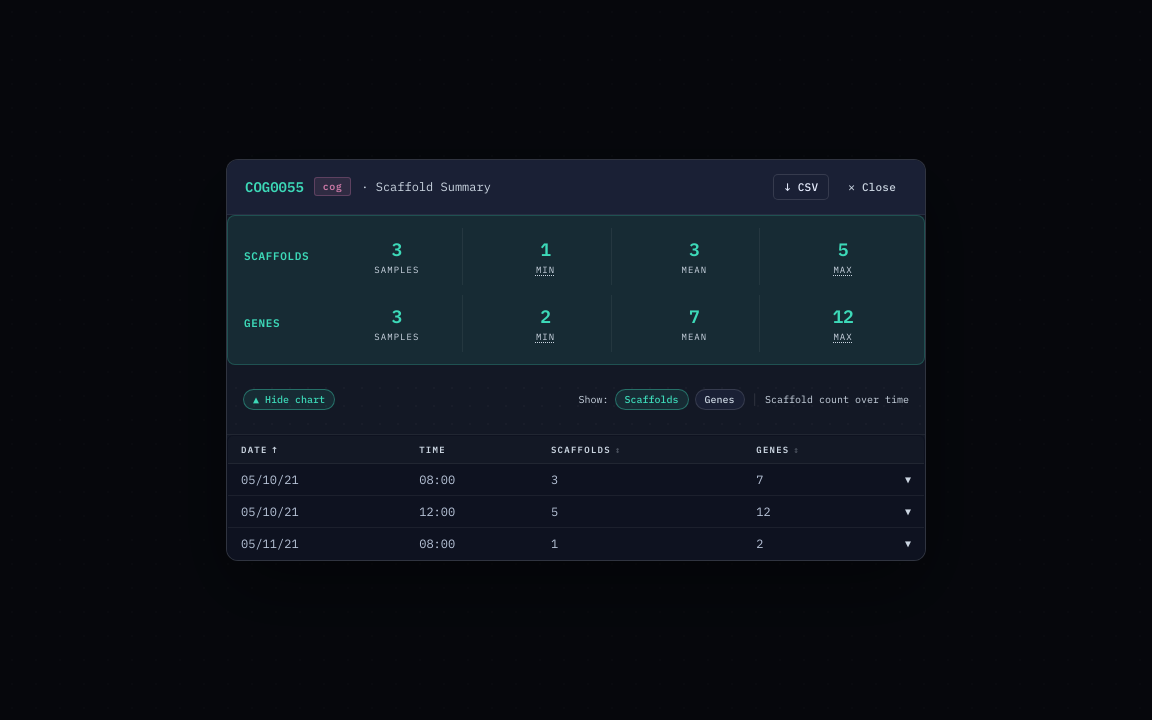
Test case: ScaffoldModal — chart controls › hide chart button hides chart
Click the button with test id "chart-toggle" at (289, 400), box [243,389,335,410]
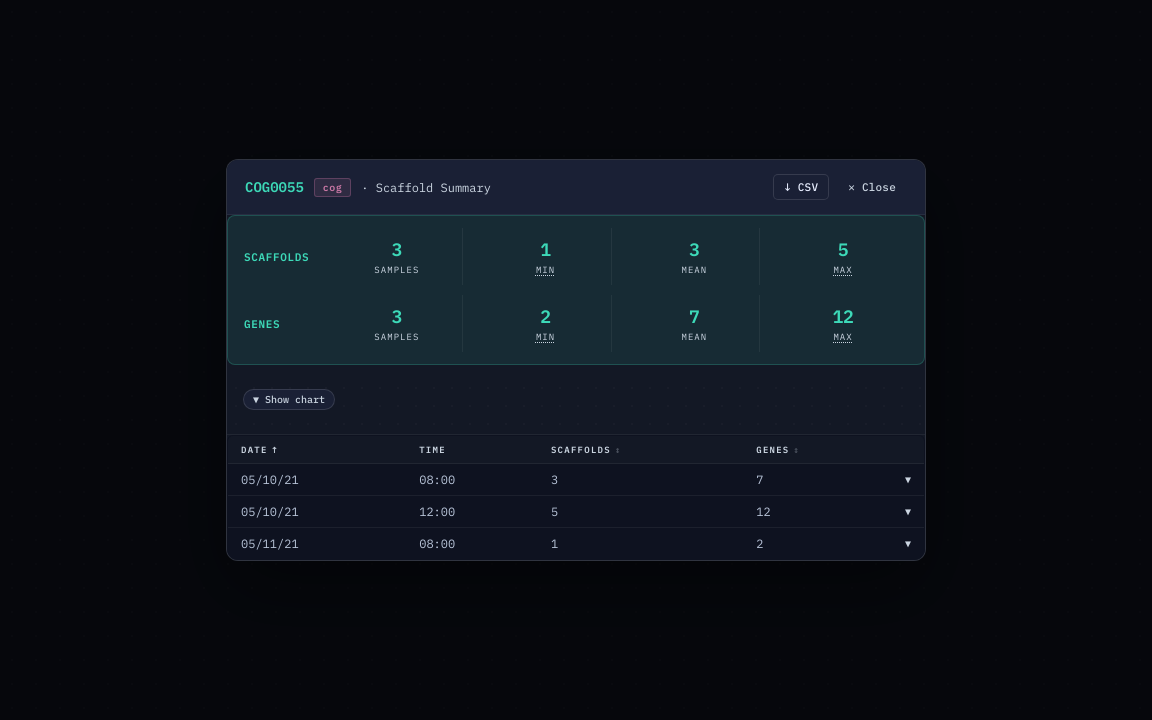
Check: the element with test id "chart-content" is gone
